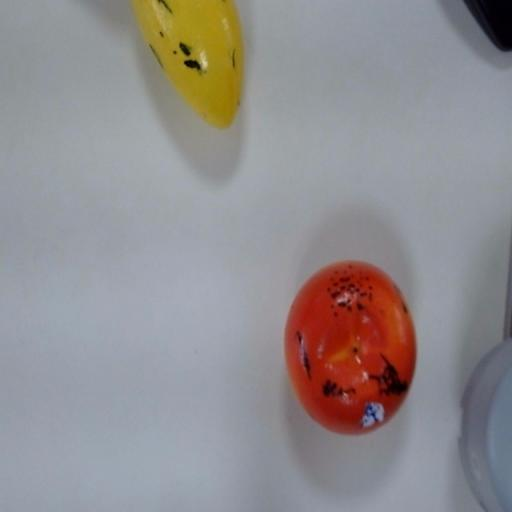Defective: (282, 256, 422, 440), (129, 2, 250, 136)
